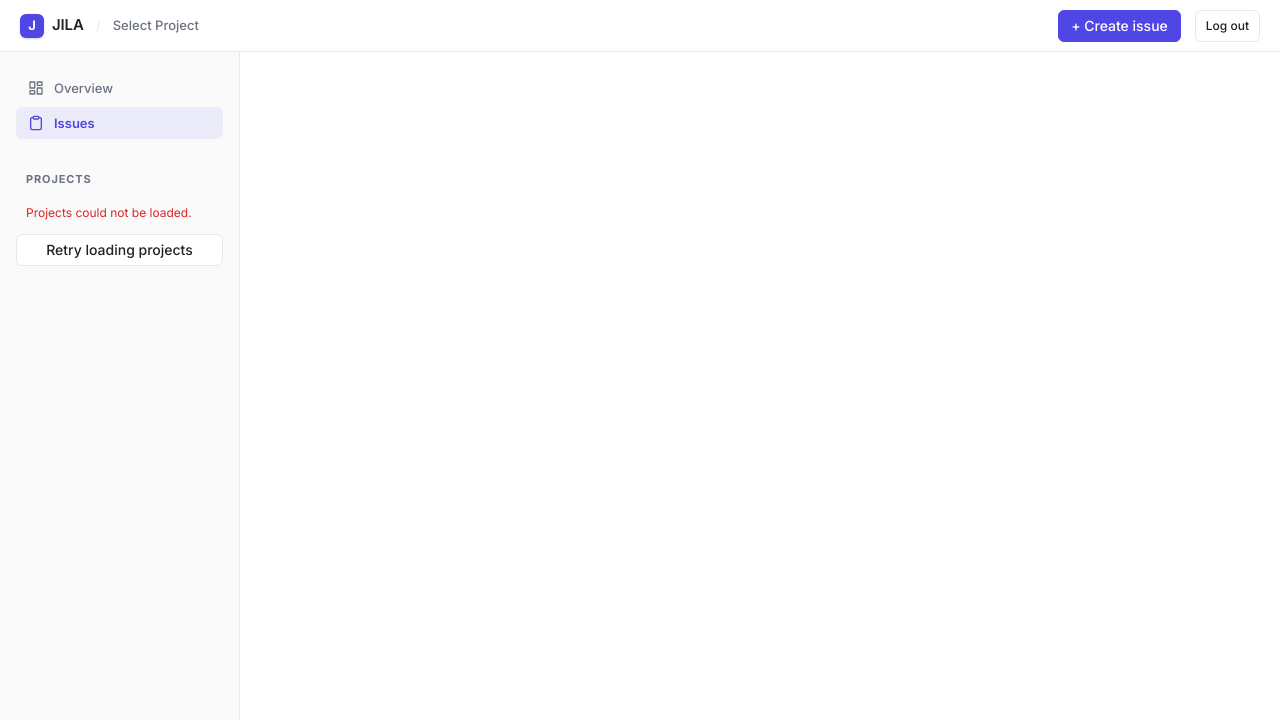
WorkspaceComponent › shows a request error and retries the project request
This screenshot has width=1280, height=720.
What coordinates should you click on to do the following:
click the button "Retry loading projects"
I would click on:
 (120, 250)
Its box is [16,234,223,266].
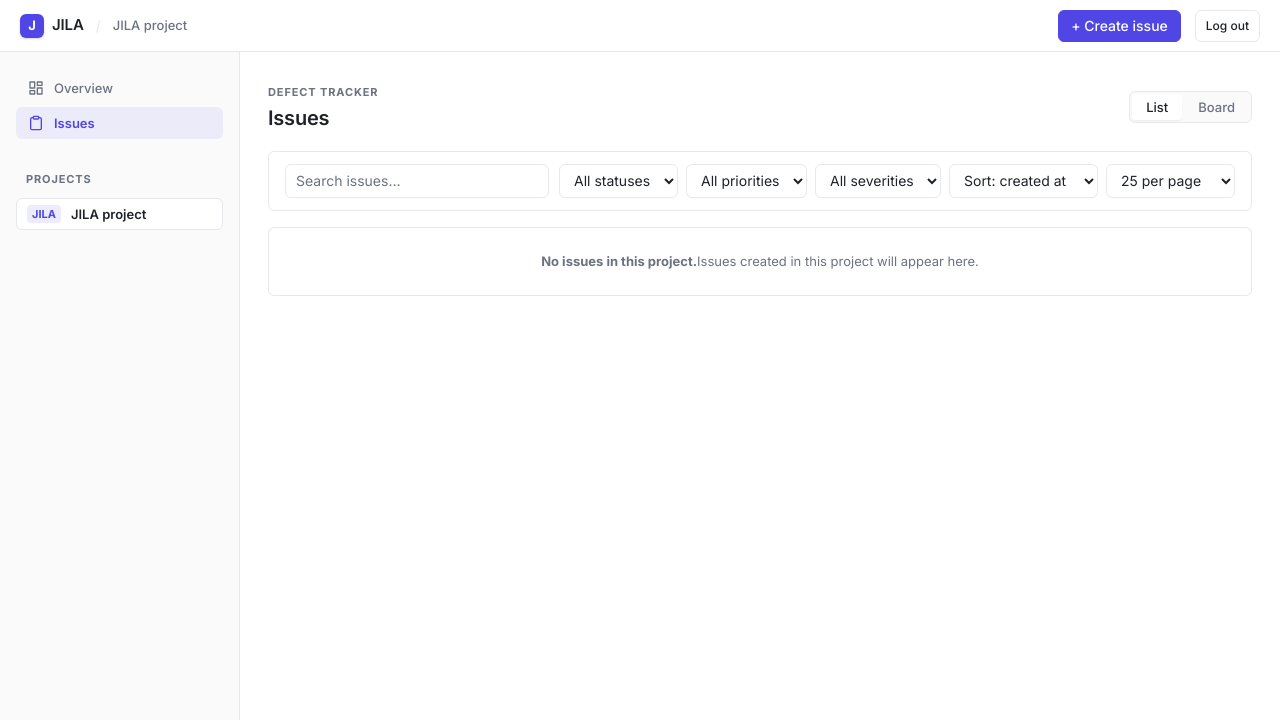
Now the text "JILA project" is shown, box [113,16,187,35]
Now the message "Projects could not be loaded." is gone
